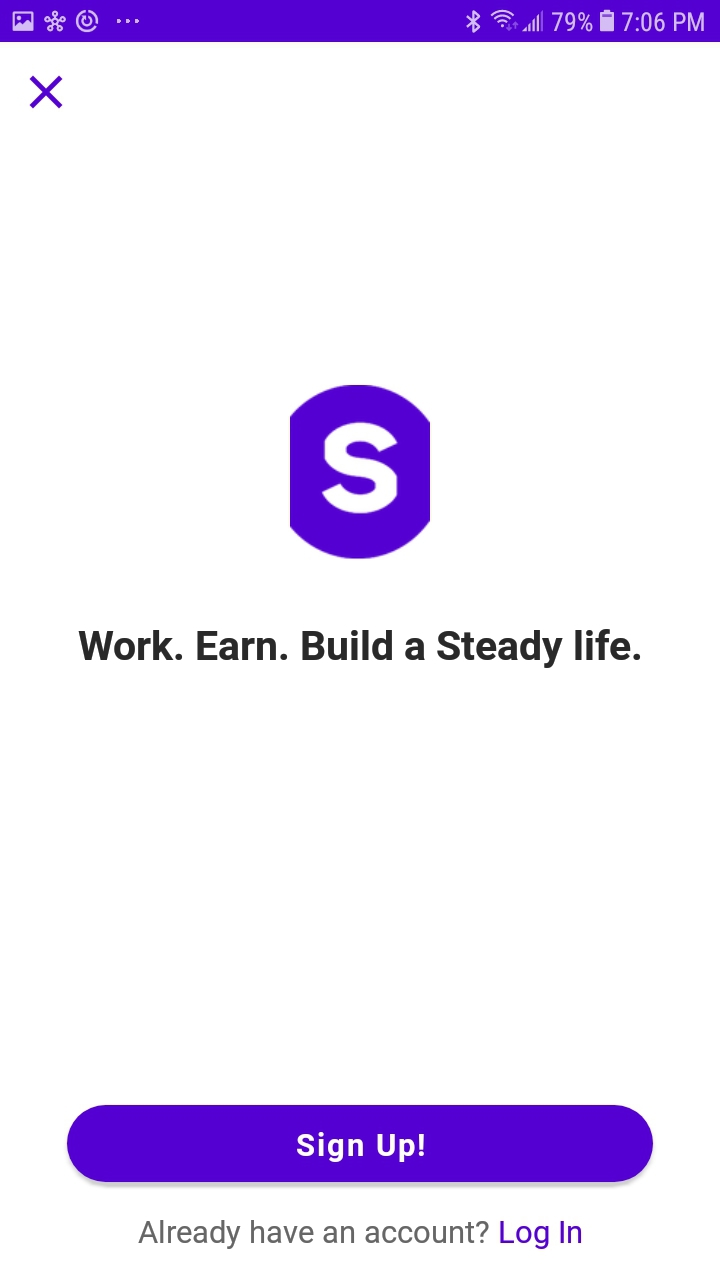Icon: (30, 75, 64, 110)
Image: (290, 385, 431, 560)
Text: (78, 628, 641, 669), (138, 1219, 490, 1250), (500, 1220, 583, 1250)
TextButton: (67, 1104, 654, 1183)
UpperTaskBar: (1, 1, 720, 43)
